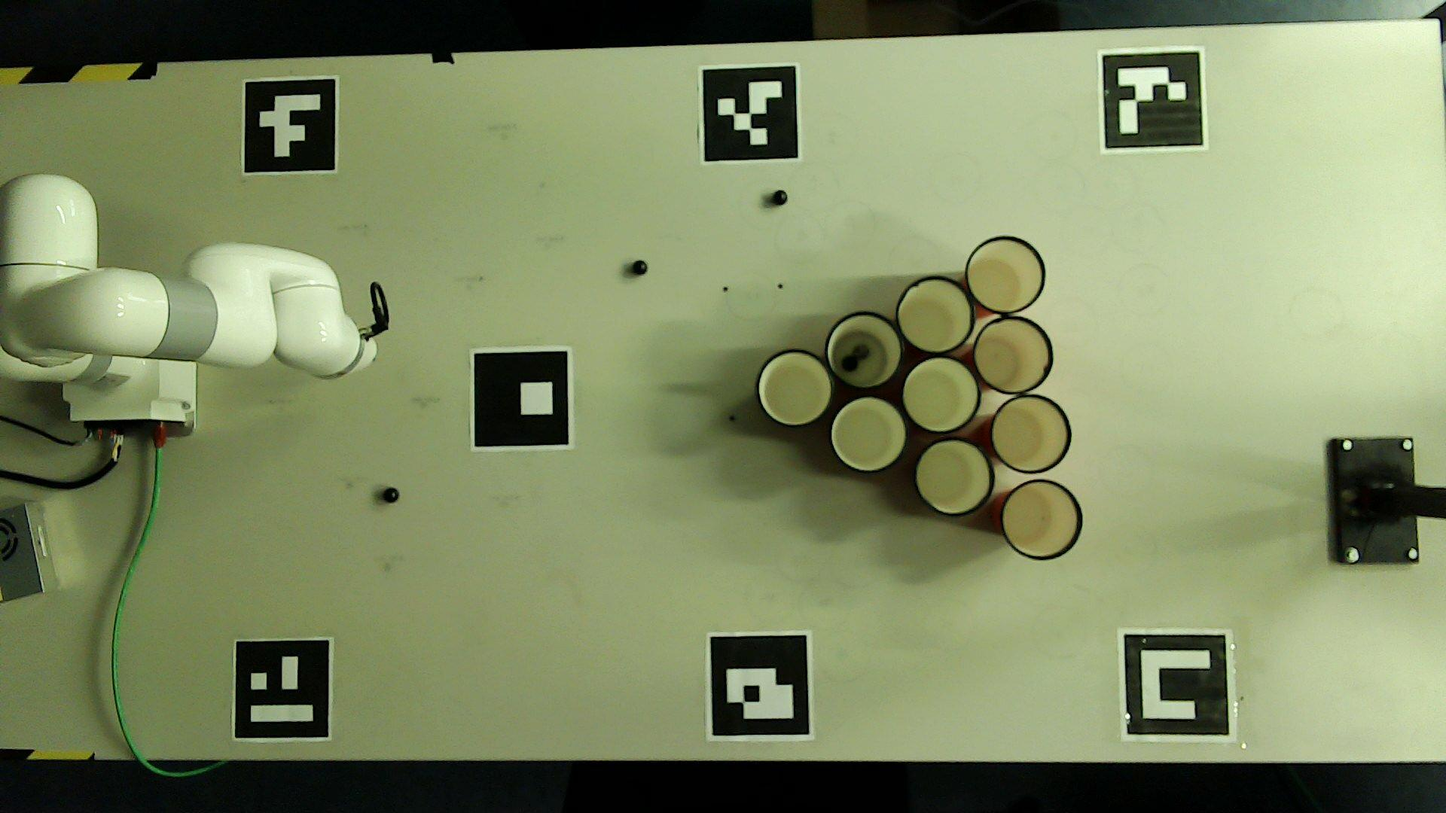ball: (842, 356, 857, 371), (633, 261, 647, 275), (854, 345, 868, 359), (385, 489, 397, 502), (775, 191, 787, 203)
cup: (914, 438, 992, 516), (991, 395, 1069, 473), (1002, 480, 1079, 559), (830, 396, 908, 473), (825, 312, 903, 389), (967, 237, 1044, 314), (897, 278, 974, 354), (902, 357, 979, 433), (975, 317, 1051, 392), (757, 351, 832, 426)
